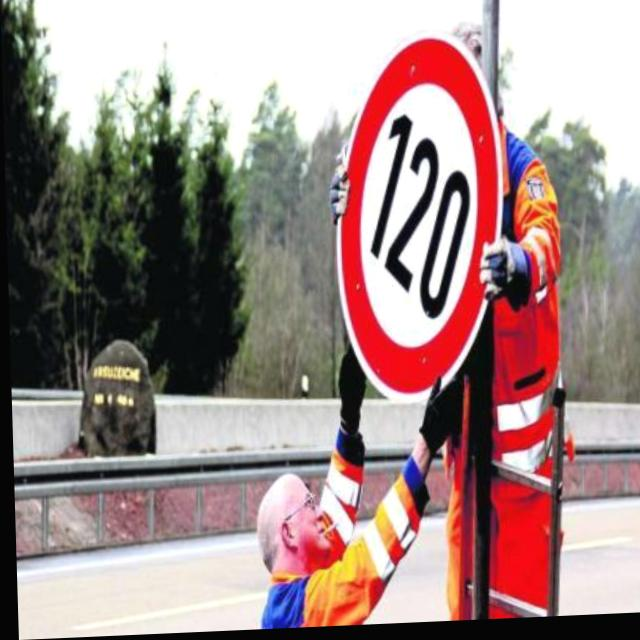limit120: (312, 26, 507, 414)
